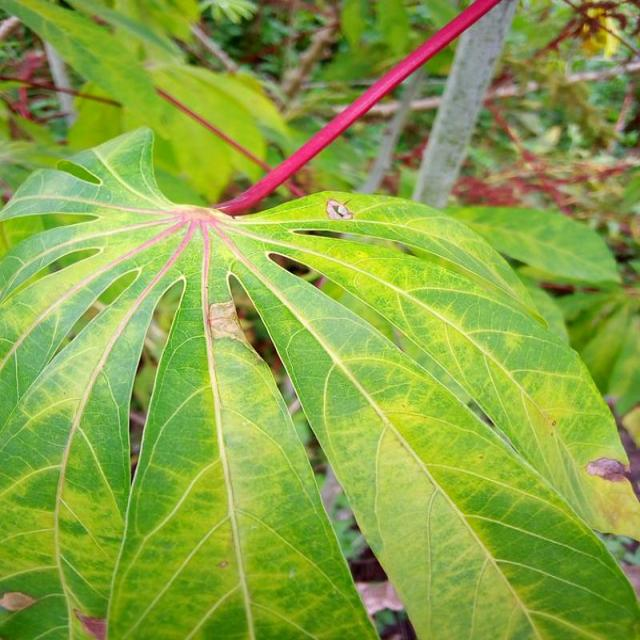cassava leaf: (1, 125, 638, 638)
